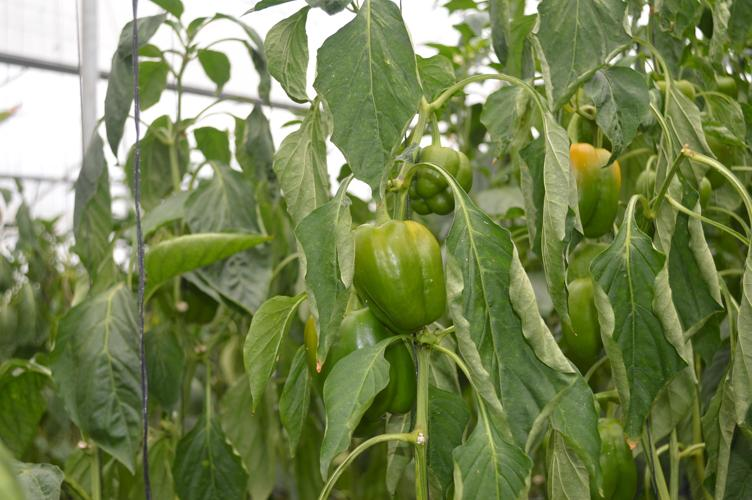BellPepper: (311, 307, 410, 417), (348, 221, 442, 322), (565, 141, 624, 237), (579, 413, 644, 500), (557, 241, 598, 368), (404, 145, 470, 212)
